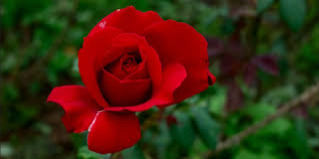RedRose: (58, 6, 209, 146)
